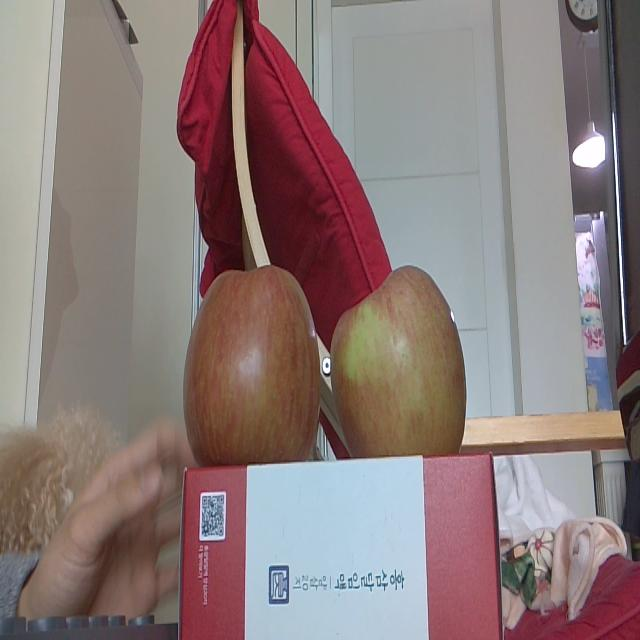apple: (184, 266, 320, 463), (331, 265, 466, 456)
